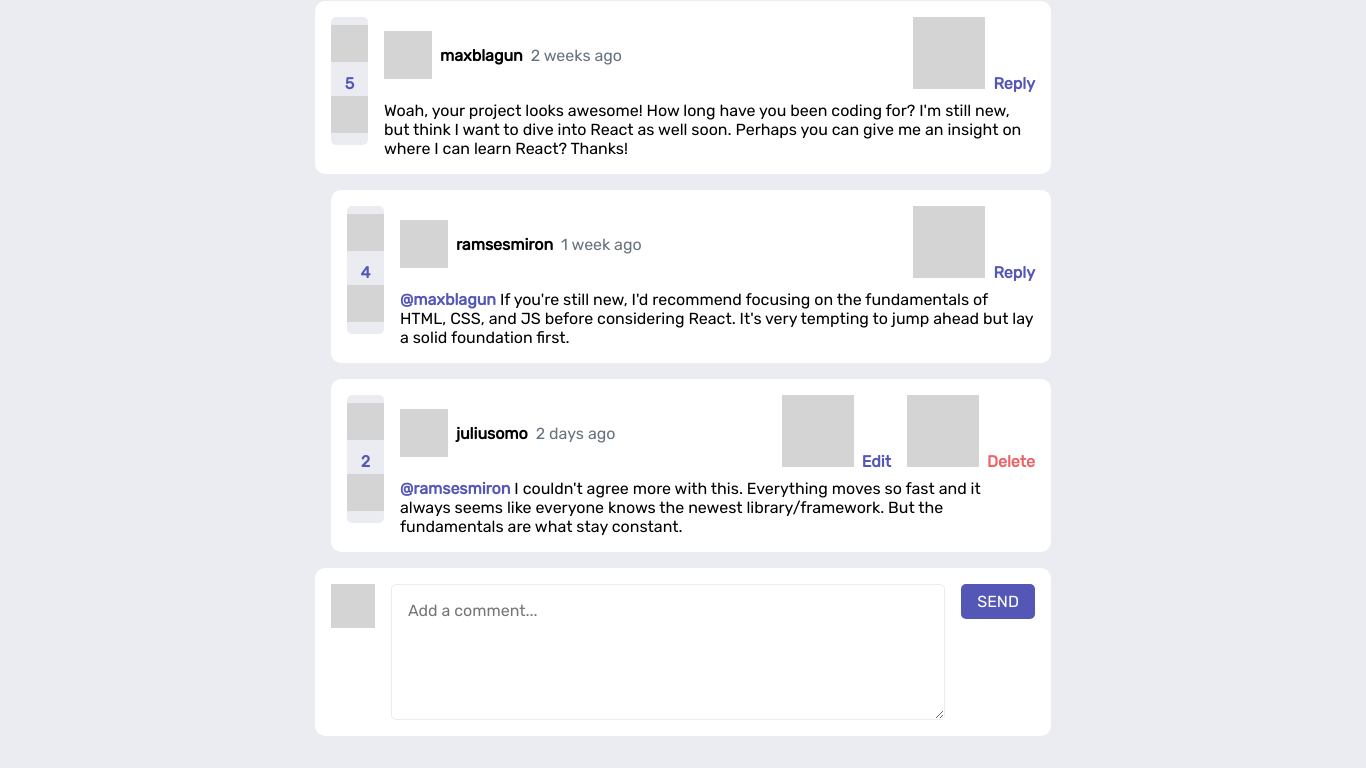
Scenario: App Integration Tests › Deleting › should show delete modal when Delete is clicked
This screenshot has width=1366, height=768.
(page scrolled)
Click the button "Delete". click: (971, 433)
box: [907,395,1035,471]
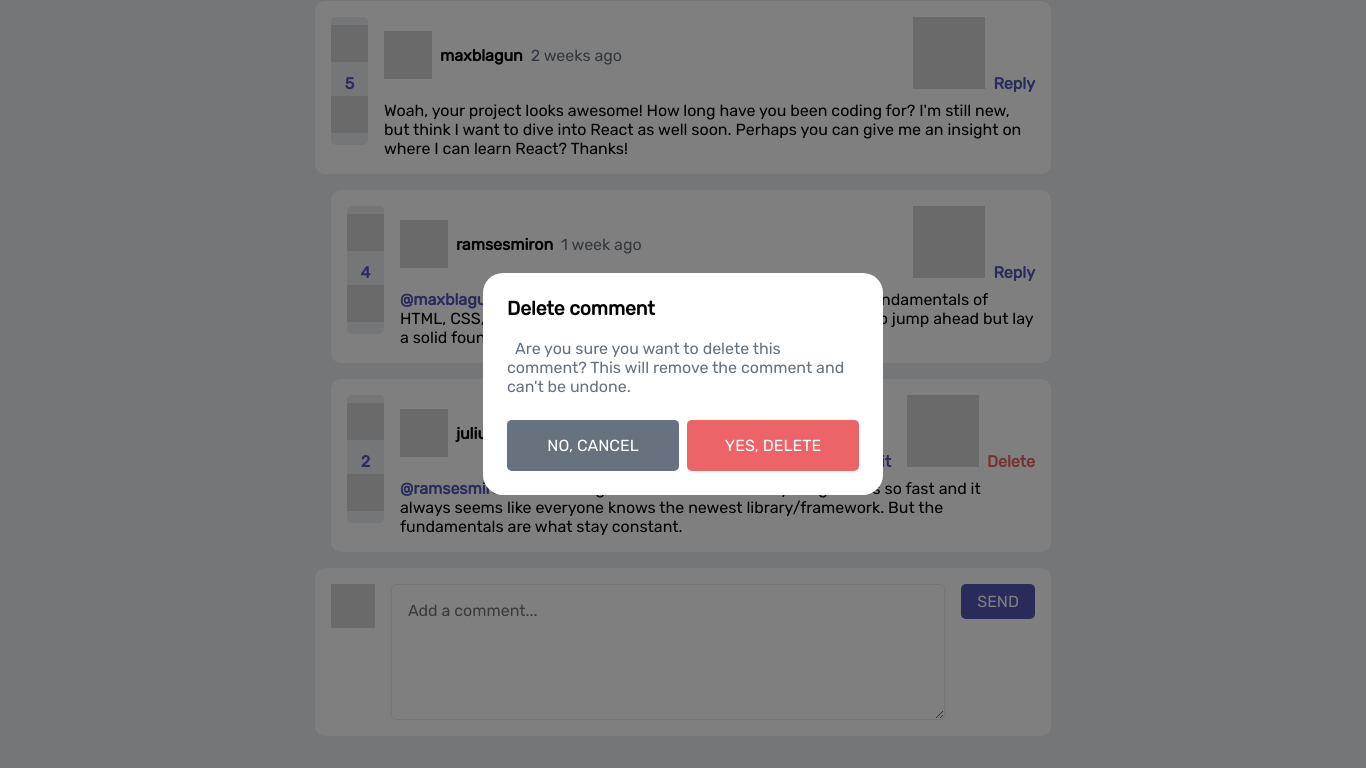
Expected: the text "Delete comment" is shown, [507,297,655,320]
